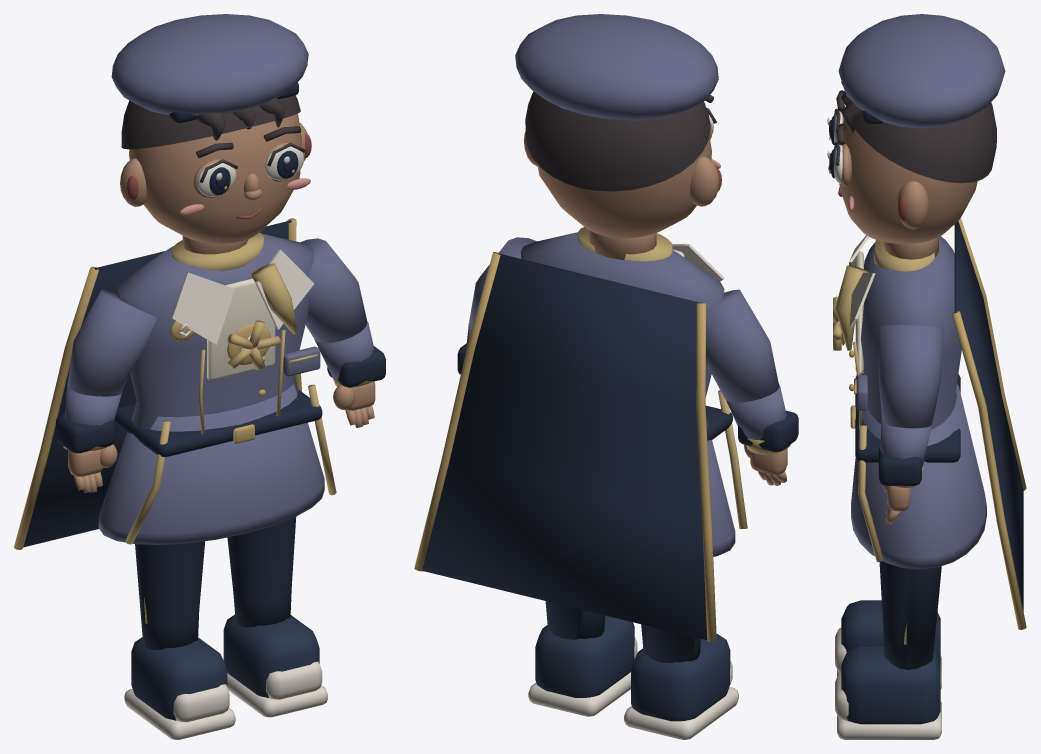
The model's file is npc_bosshighland_lieutenant_1.glb.
The picture shows the model from 3 angles, left to right: view 1: azimuth 30°, elevation 25°; view 2: azimuth 150°, elevation 25°; view 3: azimuth 270°, elevation 25°; orthographic projection. The views are drawn at different scales.
Visible parts, largest first — view 1: figure.080; view 2: figure.080; view 3: figure.080.
Part boxes in pixels (box(x1,y1,x2,y2)): figure.080: box(14, 14, 385, 739); figure.080: box(414, 14, 798, 739); figure.080: box(827, 14, 1026, 739).
Bounding box in the file's own units: 0.8513 × 1.72 × 0.4639.
